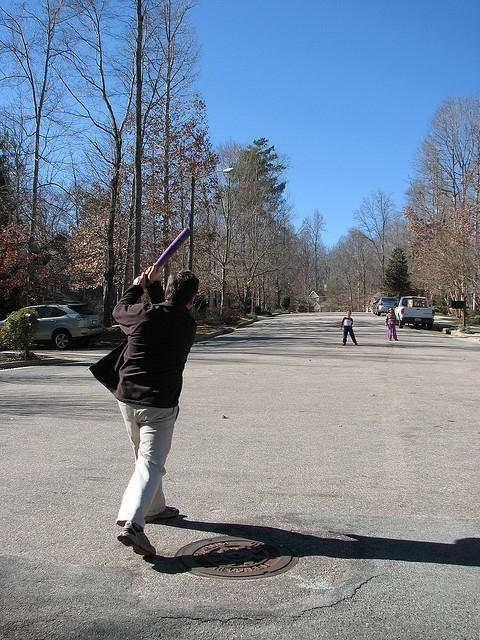car: (4, 300, 106, 350), (372, 294, 396, 316)
truck: (394, 296, 434, 329)
